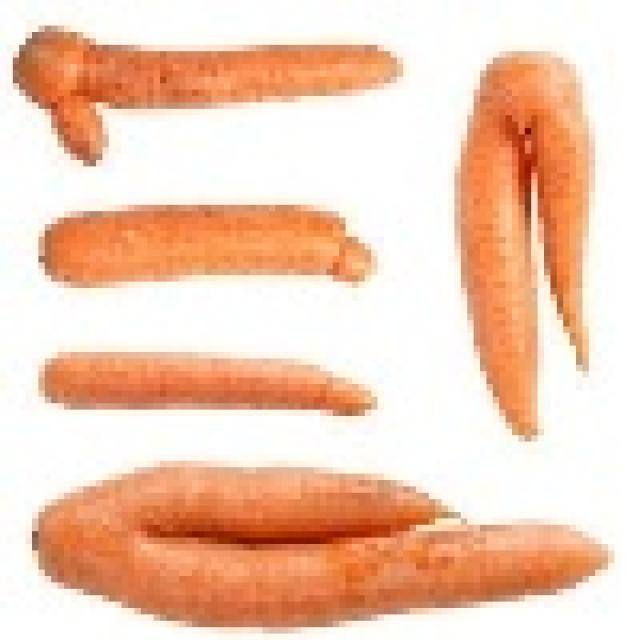Fresh_Carrot: (448, 48, 607, 440)
